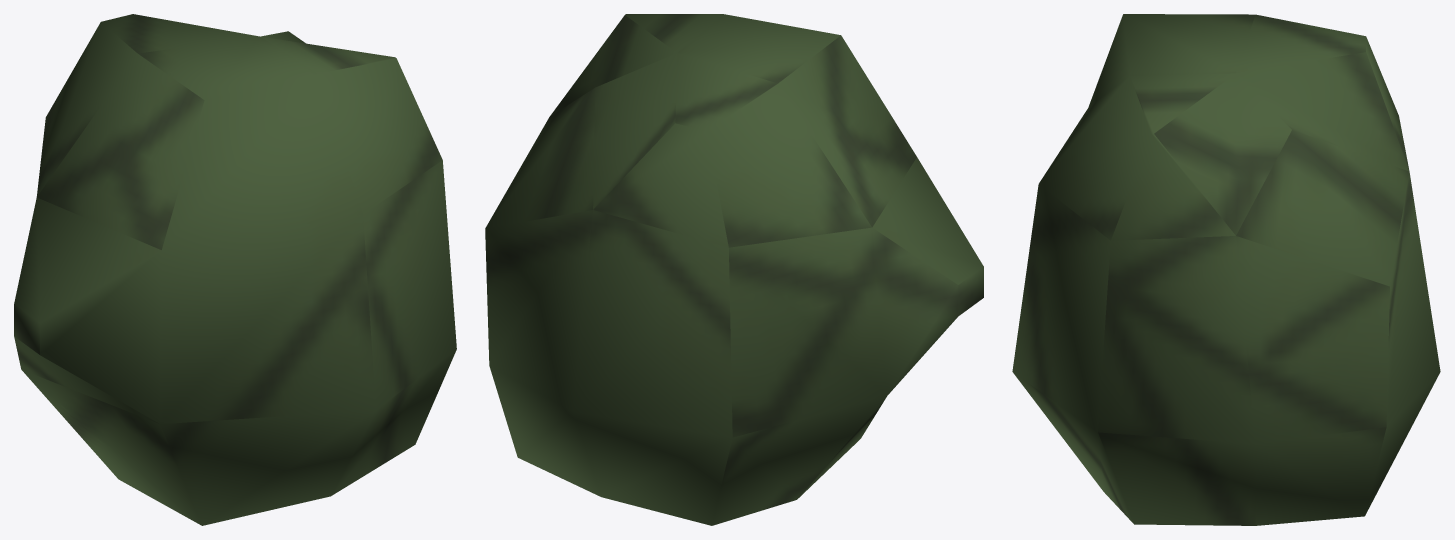
The model's file is Phase 1 Bamboo 2.fbx.
The picture shows the model from 3 angles, left to right: view 1: azimuth 30°, elevation 25°; view 2: azimuth 150°, elevation 25°; view 3: azimuth 270°, elevation 25°; orthographic projection. The views are drawn at different scales.
Visible parts, largest first — view 1: Phase 1 Bamboo 2; view 2: Phase 1 Bamboo 2; view 3: Phase 1 Bamboo 2.
Boxes of the visible parts, x1,y1,x2,y2 form: Phase 1 Bamboo 2: (14,14,456,525); Phase 1 Bamboo 2: (485,14,983,525); Phase 1 Bamboo 2: (1012,14,1440,525).
Size of the model in its own units: 28.74 by 28.39 by 25.27.
